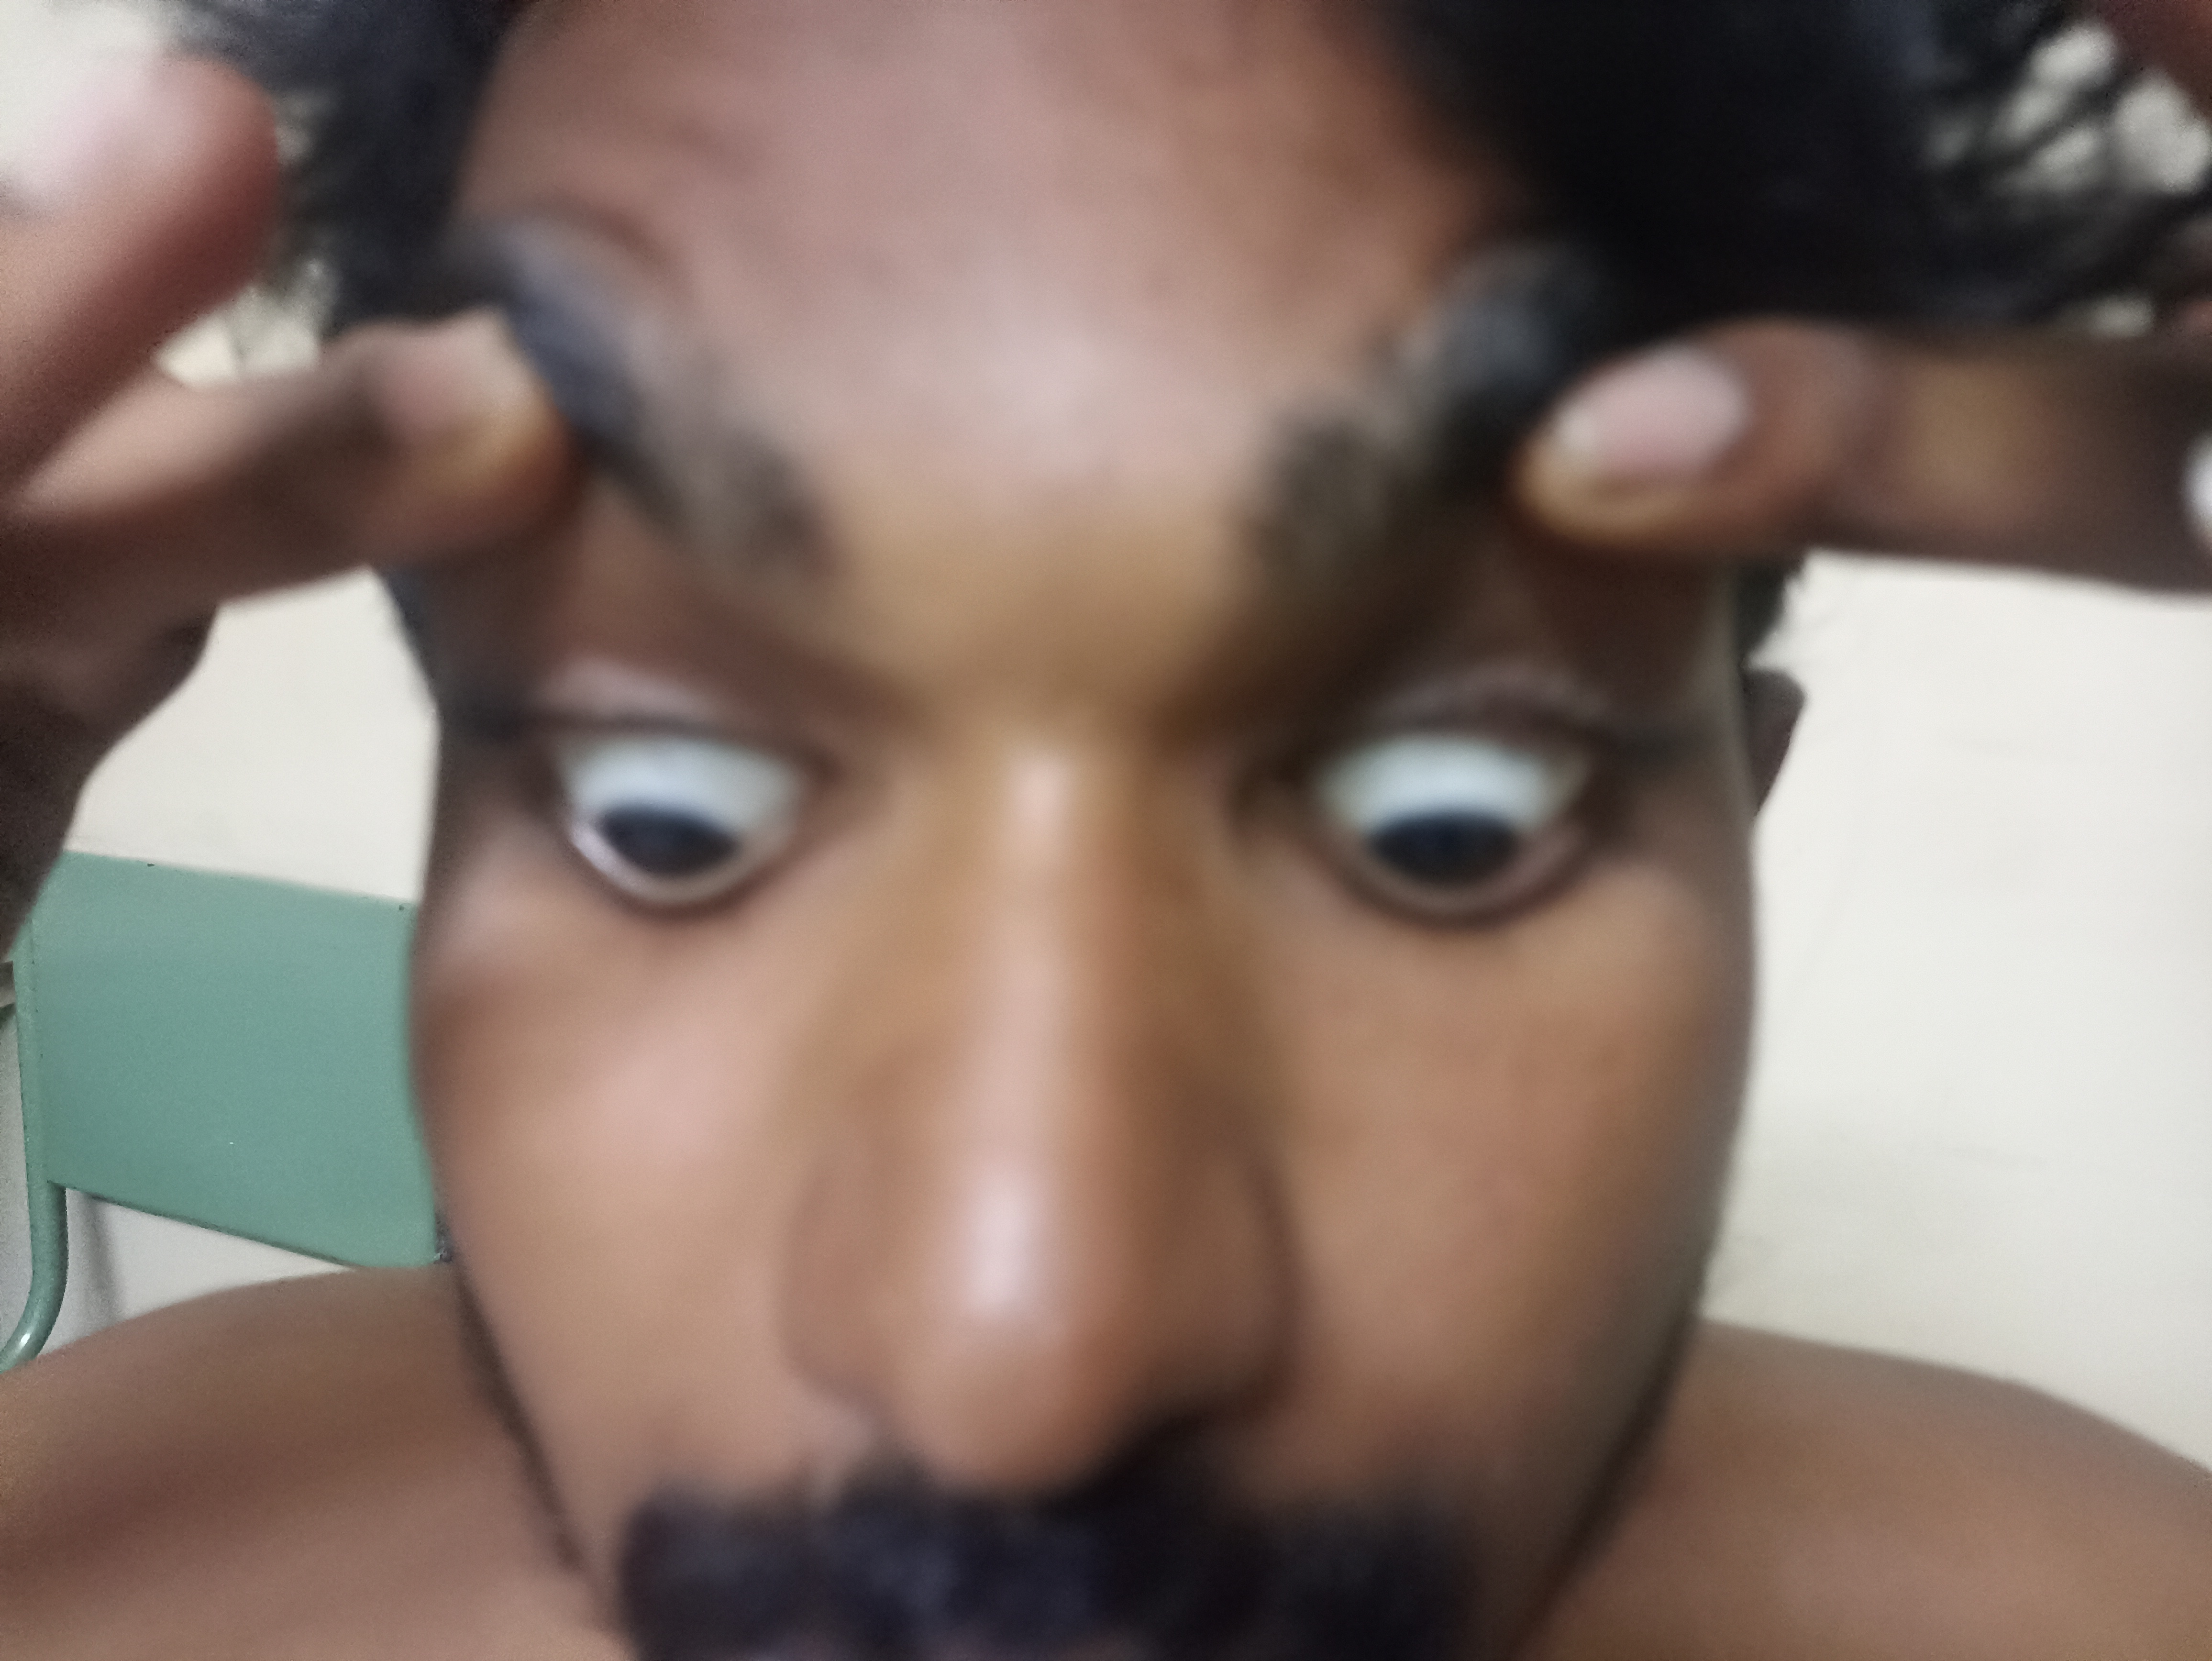EYE DOWN: (195, 564, 1017, 1036), (1148, 567, 1959, 1028)
